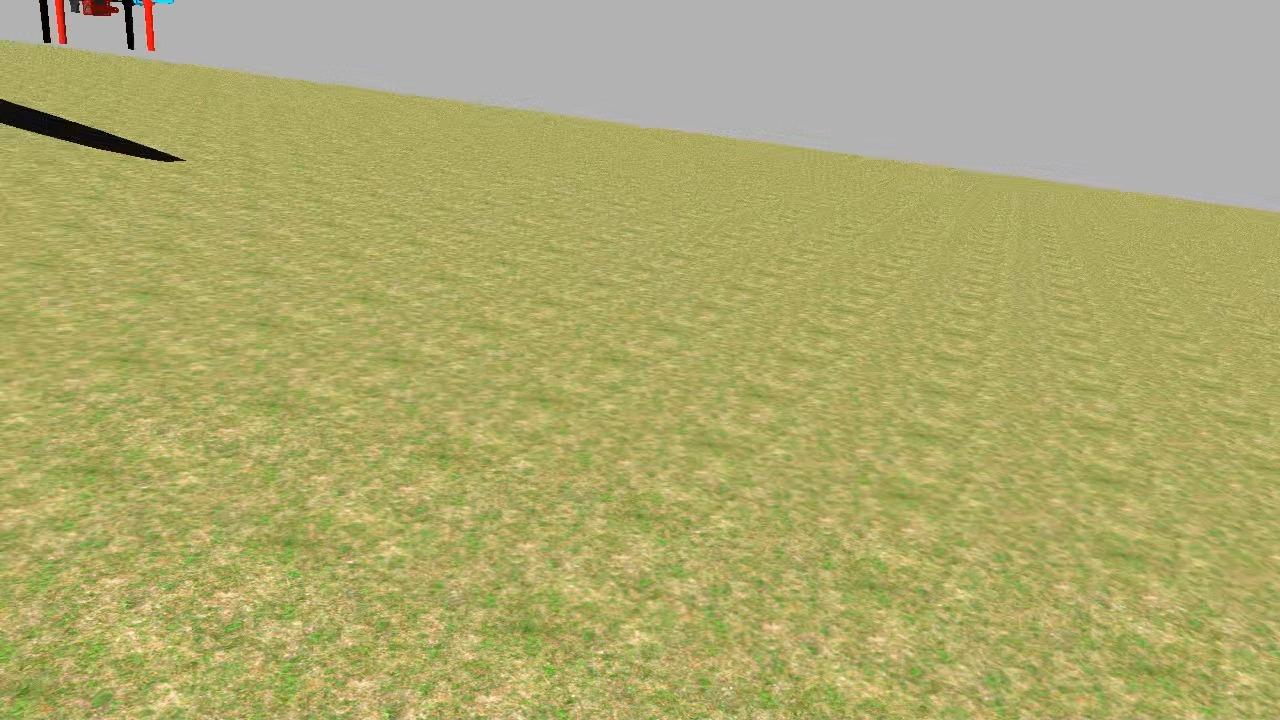UAV: (18, 0, 181, 64)
